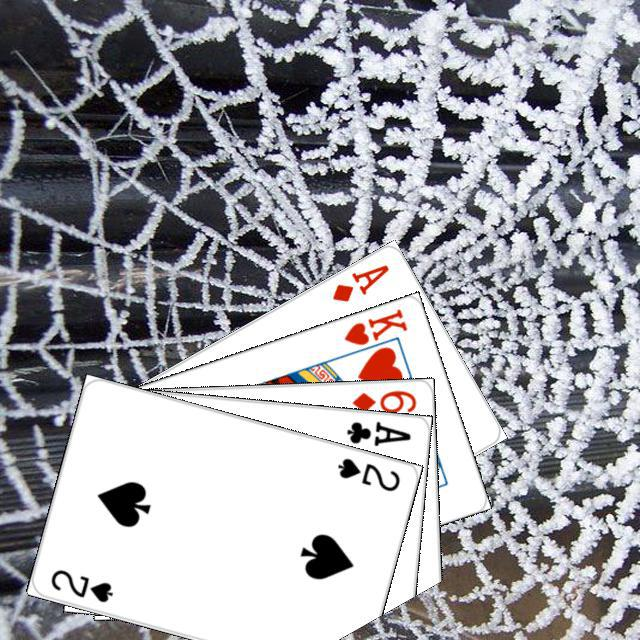2s: (332, 452, 402, 493), (45, 564, 115, 604)
6d: (347, 385, 418, 415)
Ac: (341, 416, 413, 448)
Ad: (327, 259, 391, 304)
Kh: (338, 304, 409, 359)
